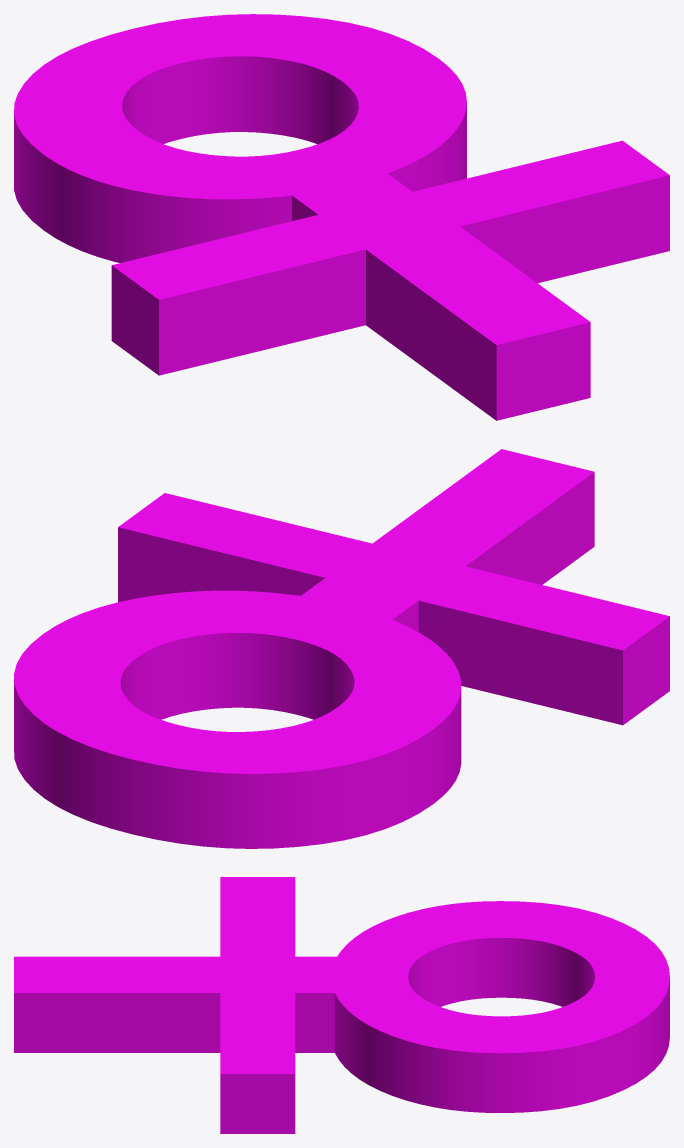
The model's file is female_symbol.dae.
3 renders of one model, top to bottom at view 1: azimuth 30°, elevation 25°; view 2: azimuth 150°, elevation 25°; view 3: azimuth 270°, elevation 25°, orthographic. The views are drawn at different scales.
Visible parts, largest first — view 1: Text001; view 2: Text001; view 3: Text001.
Boxes of the visible parts, box(x1,y1,x2,y2) form: Text001: box(14, 14, 669, 420); Text001: box(14, 449, 669, 848); Text001: box(14, 877, 669, 1133).
Size of the model in its own units: 41.69 by 58.67 by 5.91.
